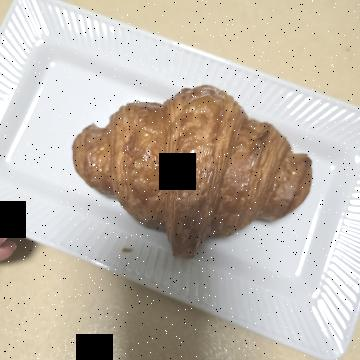croissant: (78, 29, 275, 288)
